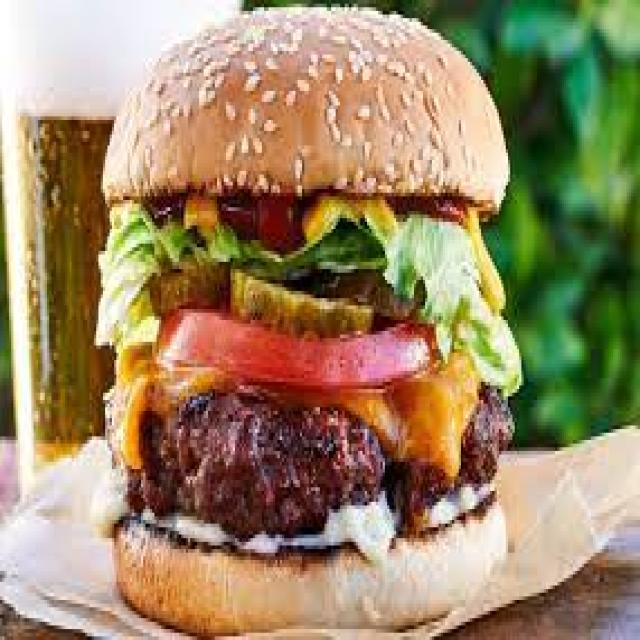Wet Waste: (119, 9, 516, 640)
